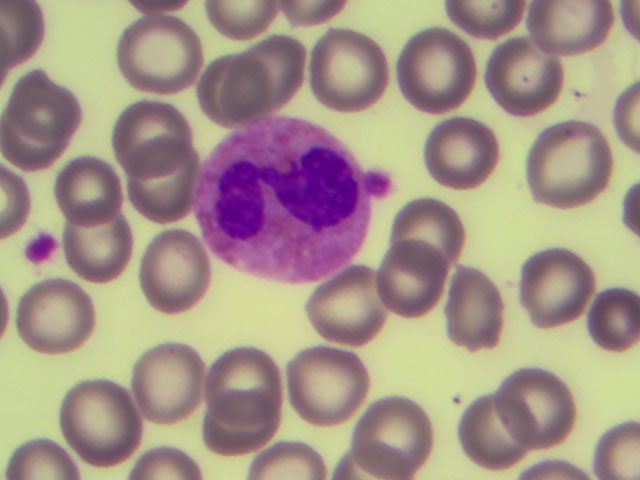Platelets: (24, 234, 57, 266), (366, 171, 391, 195)
RBC: (396, 30, 478, 113), (523, 125, 605, 206), (289, 339, 368, 421), (209, 348, 285, 432), (517, 246, 594, 324), (310, 27, 385, 107), (130, 336, 206, 413), (435, 270, 510, 347), (487, 40, 566, 112), (60, 370, 129, 452), (498, 367, 574, 441), (141, 233, 212, 311), (350, 399, 425, 472), (125, 15, 201, 87), (118, 105, 197, 172), (526, 1, 615, 51), (59, 159, 122, 226), (577, 281, 640, 348), (10, 63, 73, 130), (456, 396, 519, 463), (382, 245, 445, 312), (312, 261, 375, 328), (402, 196, 465, 263), (424, 117, 487, 184), (238, 36, 301, 103), (202, 57, 265, 124), (27, 276, 90, 343), (127, 152, 189, 214), (448, 1, 537, 39), (248, 440, 330, 480), (592, 416, 640, 480), (1, 437, 74, 479), (611, 73, 640, 156), (1, 1, 38, 65), (132, 448, 204, 480), (212, 1, 266, 40), (278, 1, 349, 23), (1, 169, 22, 232)
WBC: (194, 121, 362, 283)
